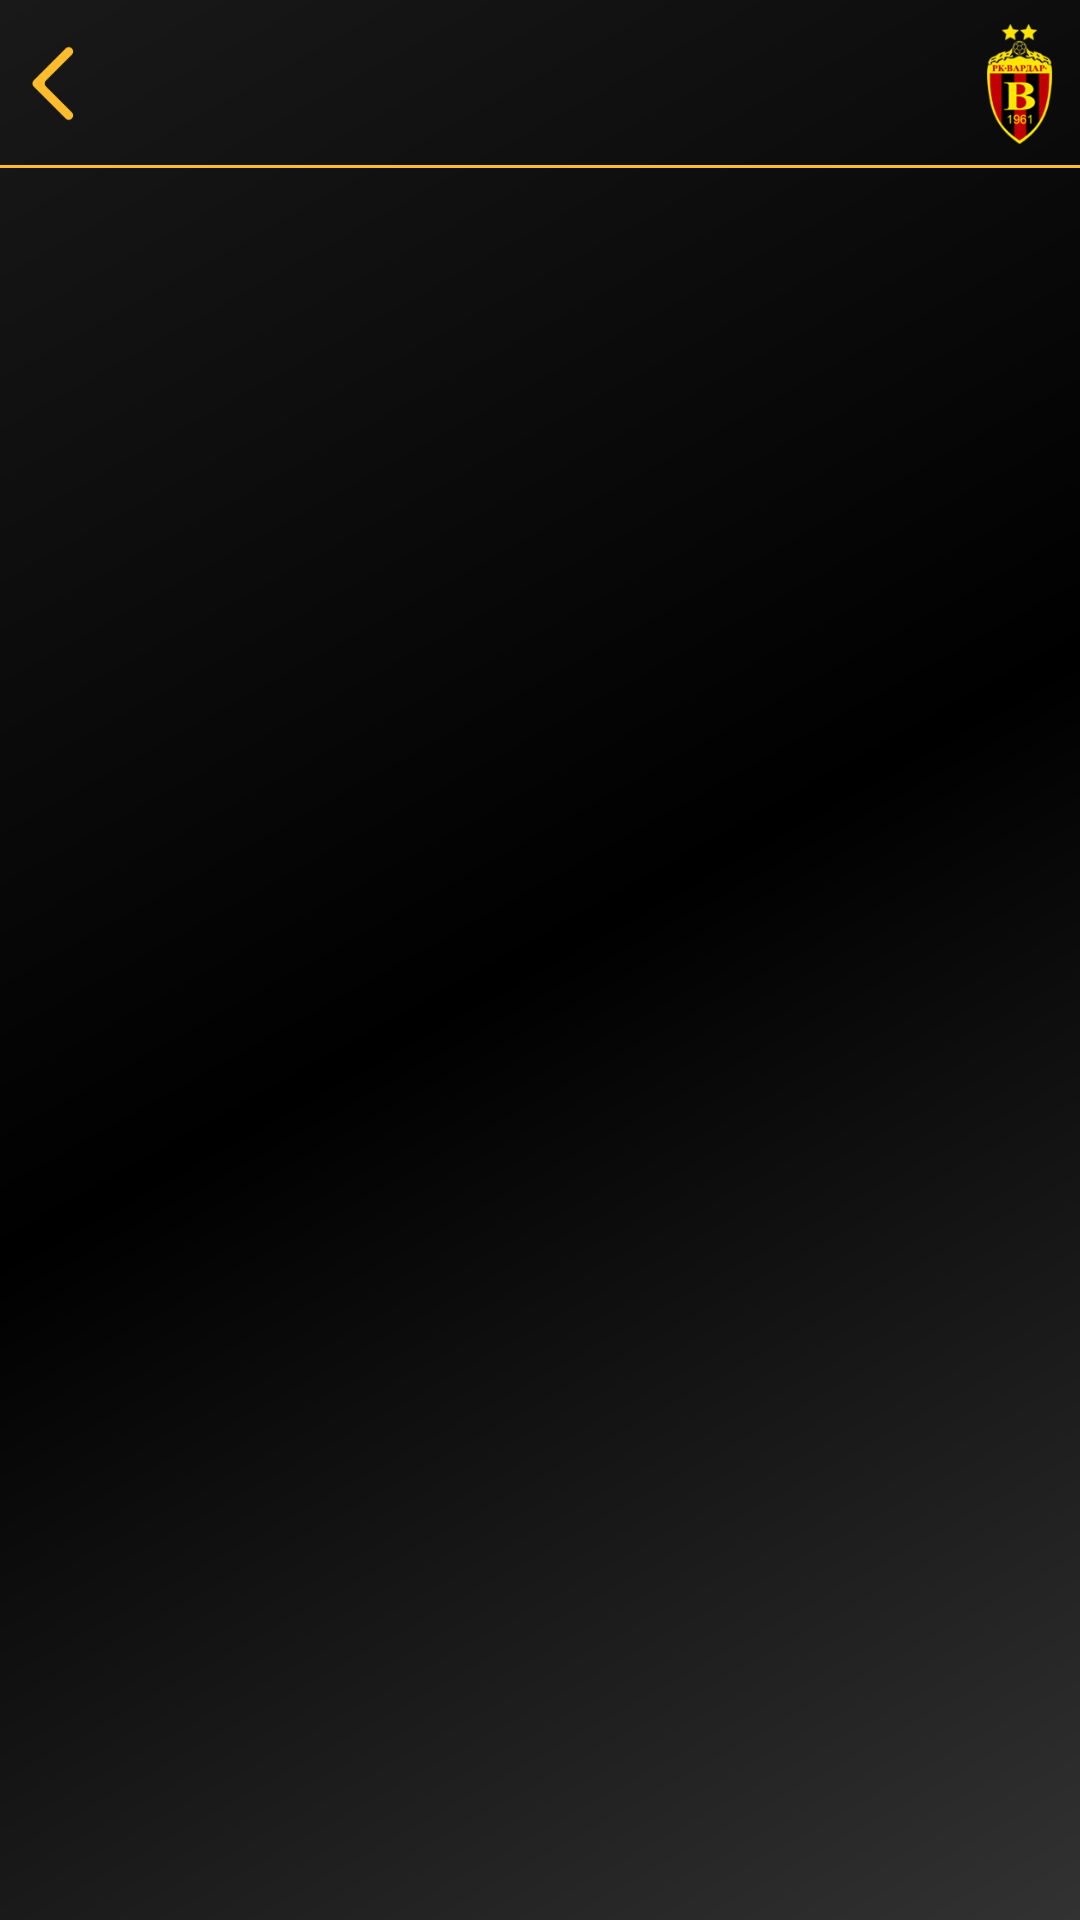

Icons on this 1080w x 1920h Android screen, each with the point to tap as (x,y):
back: (53,84)
